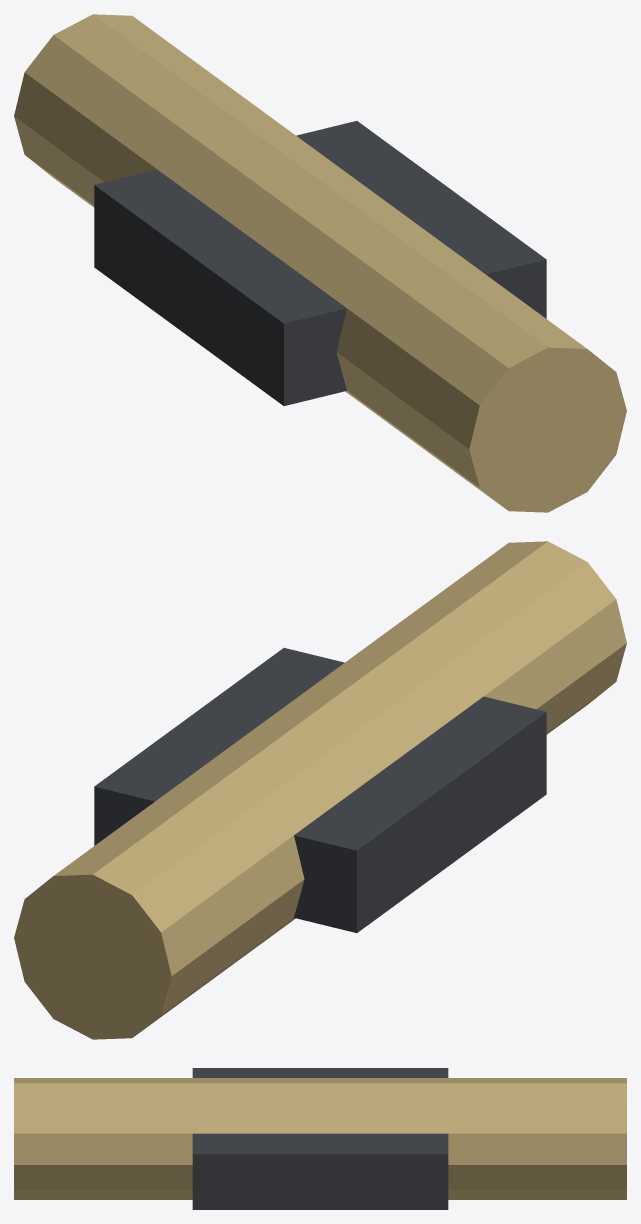
The picture shows the model from 3 angles, top to bottom: view 1: azimuth 30°, elevation 25°; view 2: azimuth 150°, elevation 25°; view 3: azimuth 270°, elevation 25°; orthographic projection. The views are drawn at different scales.
Visible parts, largest first — view 1: geometry_0; view 2: geometry_0; view 3: geometry_0.
Boxes of the visible parts, bbox=[...] form: geometry_0: bbox=[14, 14, 626, 512]; geometry_0: bbox=[14, 541, 626, 1039]; geometry_0: bbox=[14, 1068, 626, 1209].
Size of the model in its own units: 0.04 by 0.024 by 0.12.
